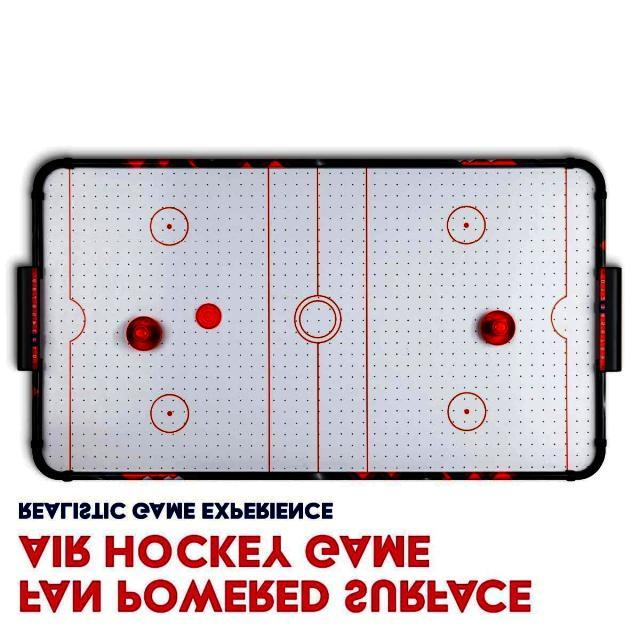chip: (197, 304, 221, 328)
